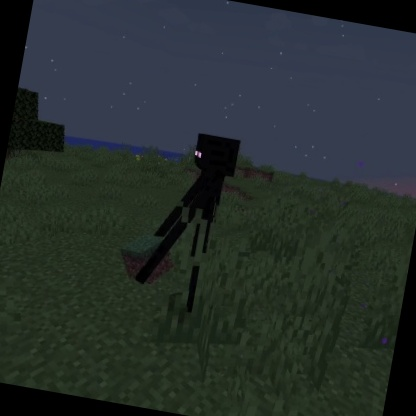enderman: (127, 123, 245, 320)
